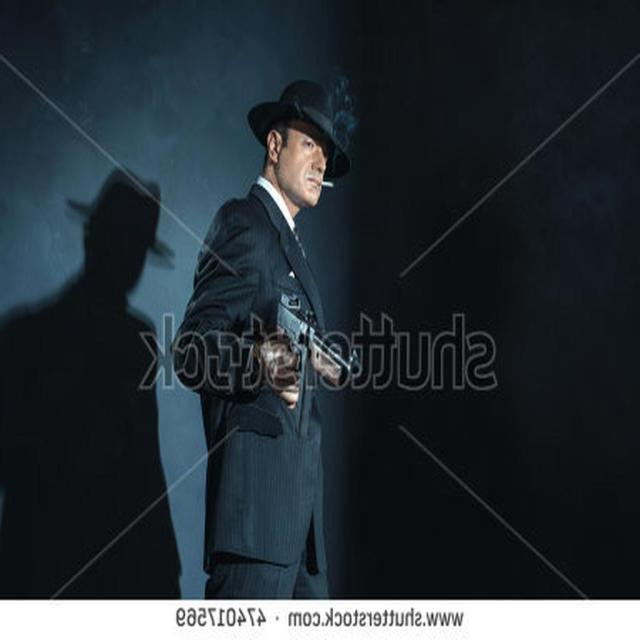smoking: (298, 175, 353, 207)
